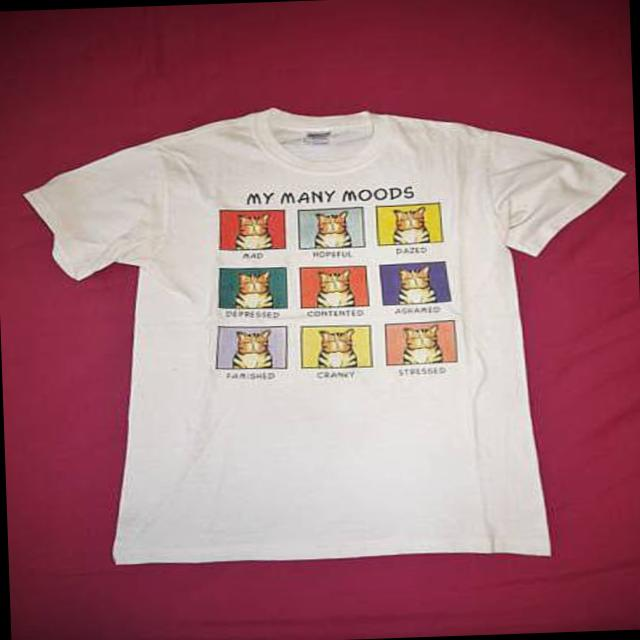T_SHIRT: (6, 80, 640, 578)
